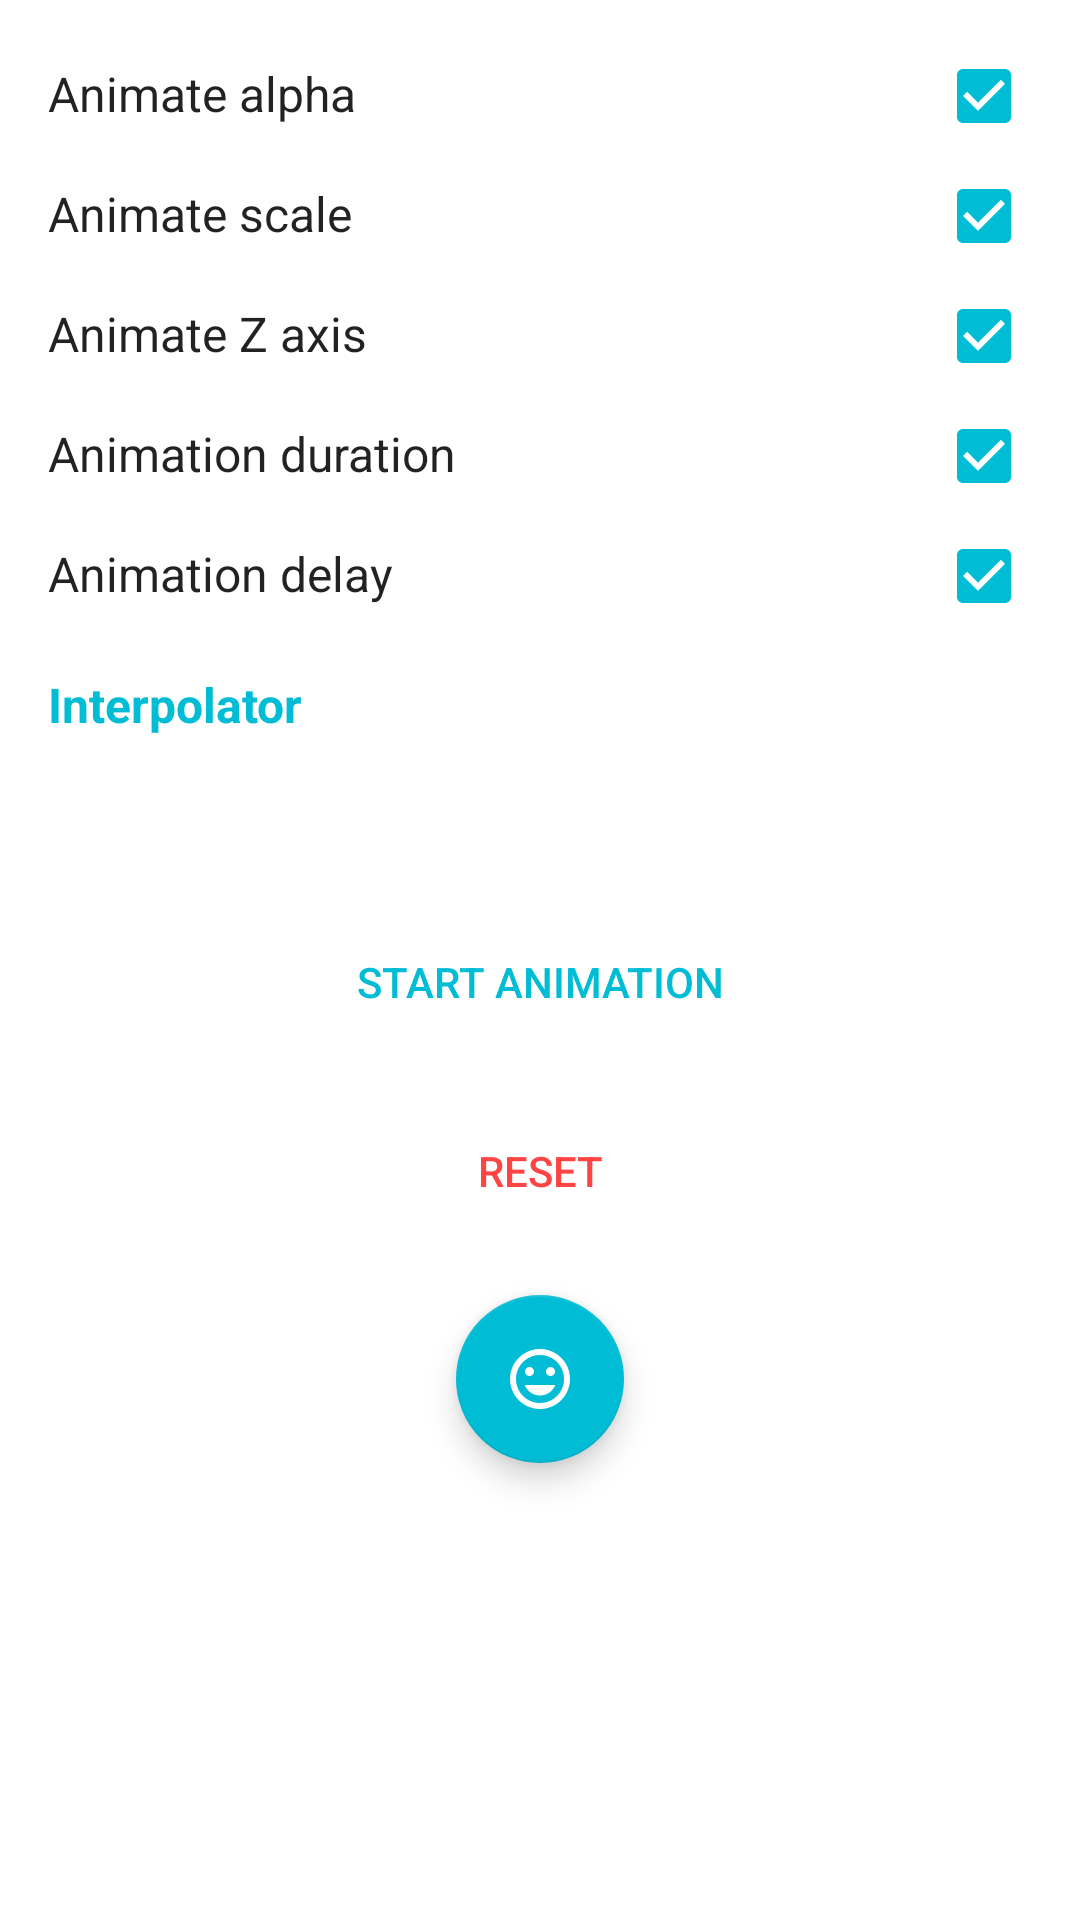

Icons on this 1080*1920 Android screen, each with the point to tap as (x,y):
emoticon smile: (540,1379)
